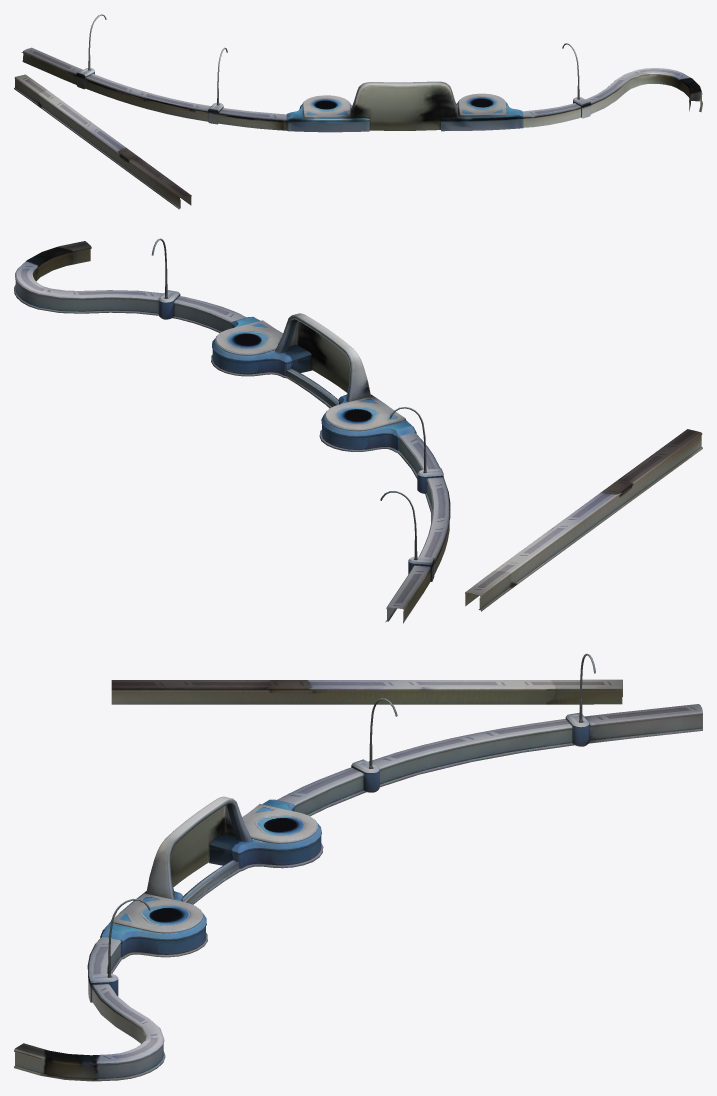
Rendered from pref_sm_4v4beachtech_bk_topblock_R01a_lv0.fbx.
The picture shows the model from 3 angles, top to bottom: view 1: azimuth 30°, elevation 25°; view 2: azimuth 150°, elevation 25°; view 3: azimuth 270°, elevation 25°; orthographic projection. The views are drawn at different scales.
Visible parts, largest first — view 1: sm_4v4beachtech_bk_topblock_R01a_lv0; view 2: sm_4v4beachtech_bk_topblock_R01a_lv0; view 3: sm_4v4beachtech_bk_topblock_R01a_lv0.
Part boxes in pixels (left/top/right/bottom): sm_4v4beachtech_bk_topblock_R01a_lv0: left=14, top=14, right=702, bottom=209; sm_4v4beachtech_bk_topblock_R01a_lv0: left=14, top=238, right=702, bottom=623; sm_4v4beachtech_bk_topblock_R01a_lv0: left=14, top=653, right=702, bottom=1081.
Bounding box in the file's own units: 42.31 × 5.07 × 32.04.
Materials: 1 (1 with a texture image).
